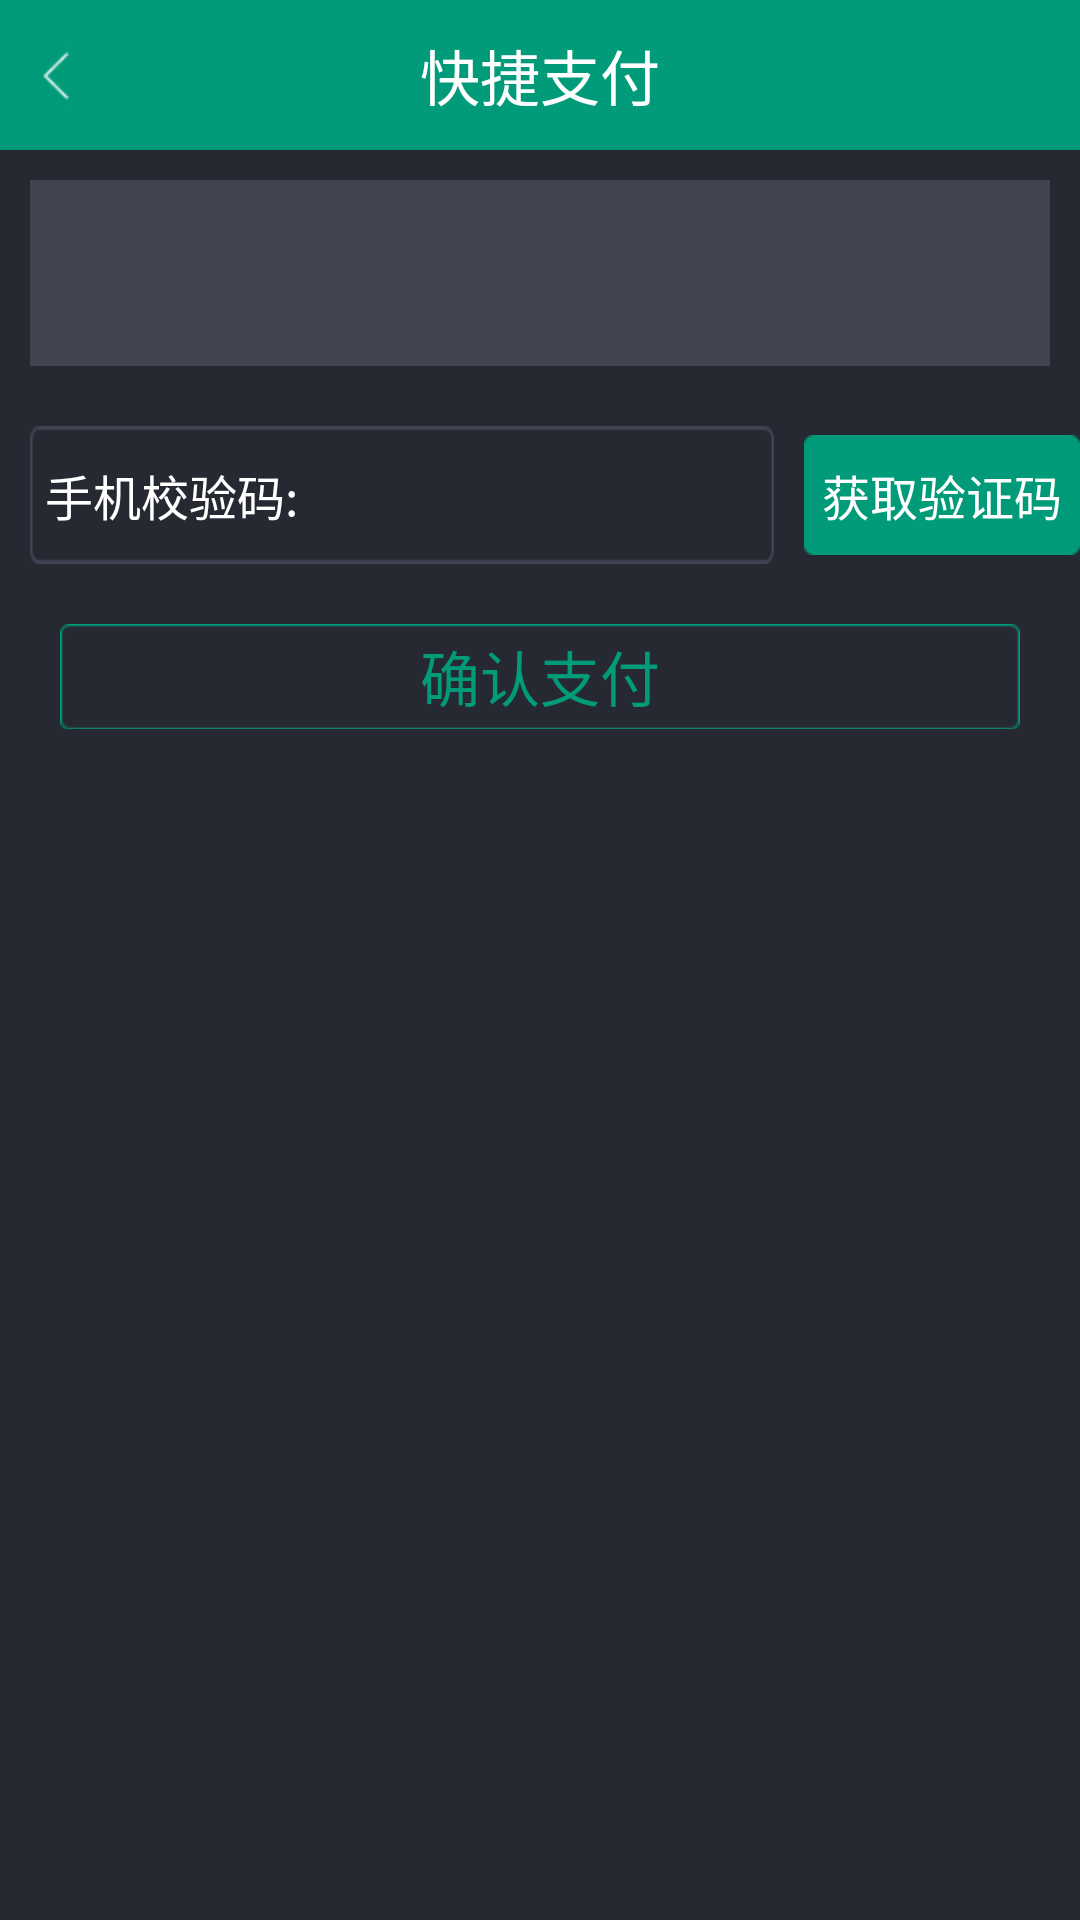

Icon bounding boxes for this 1080px×1920px phone screenshot, format (x1, y1, x2, y2):
back: (43, 52, 69, 100)
